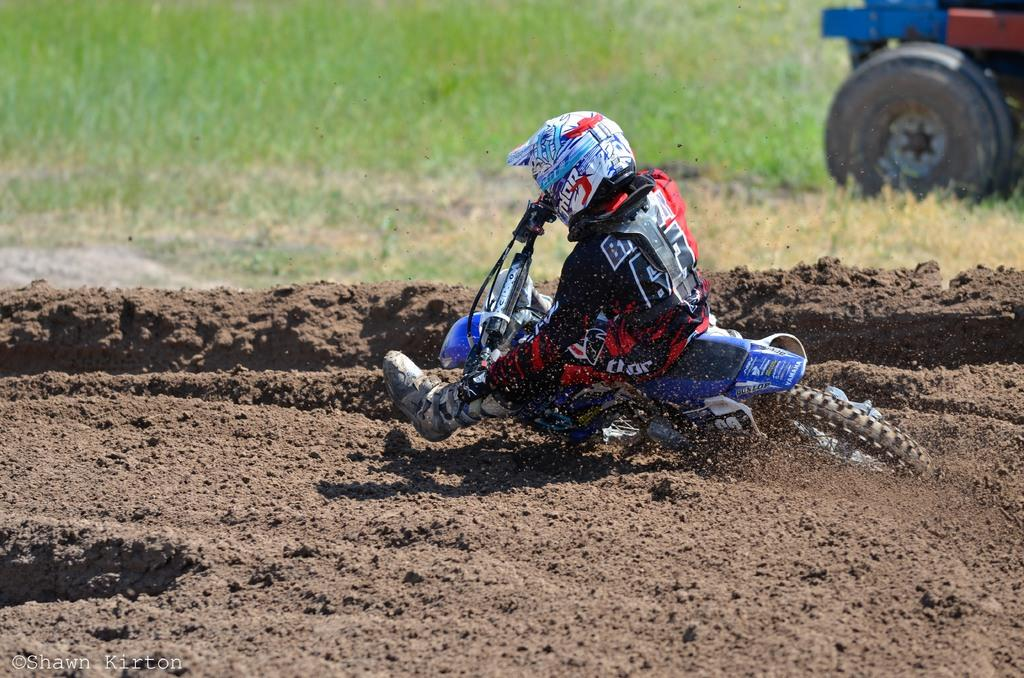helmet: (507, 111, 637, 230)
